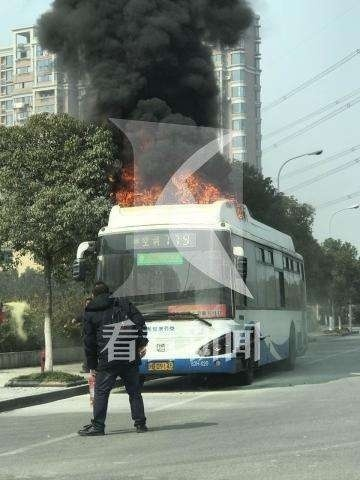fire: (109, 164, 232, 211)
